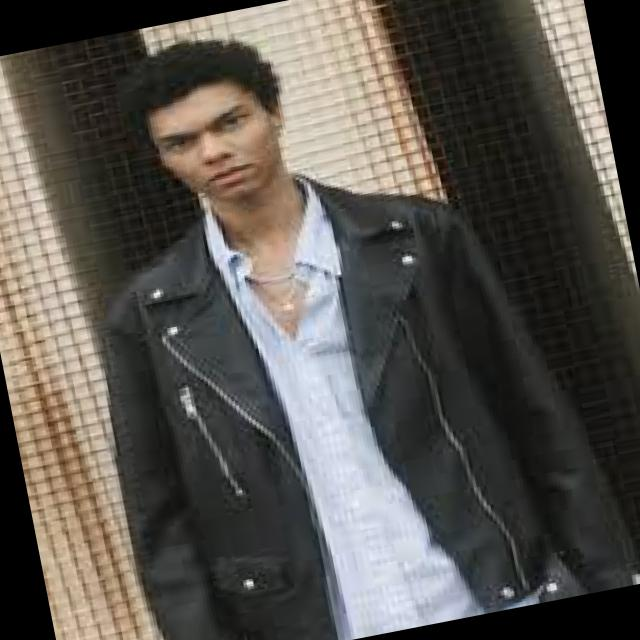Jacket: (42, 123, 640, 640)
